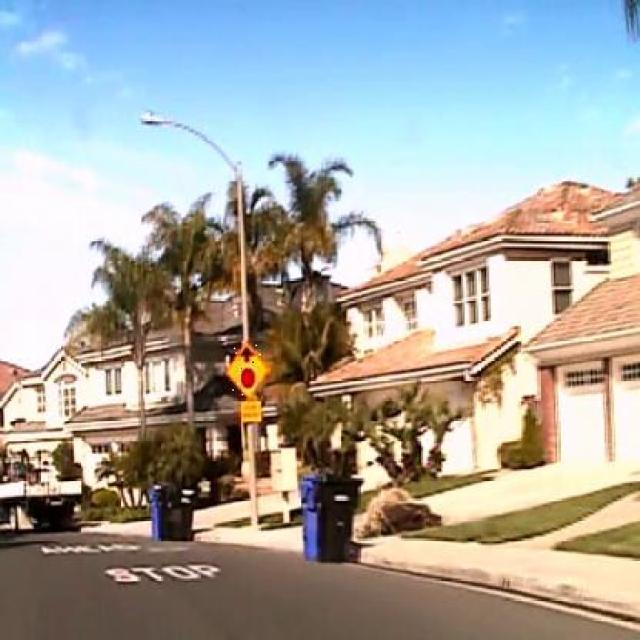stopAhead: (228, 340, 270, 397)
